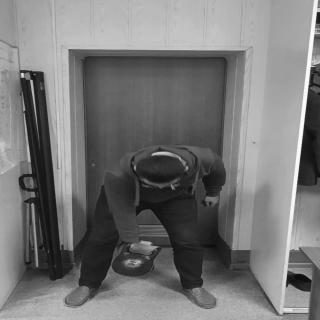kettlebell: (111, 243, 160, 280)
